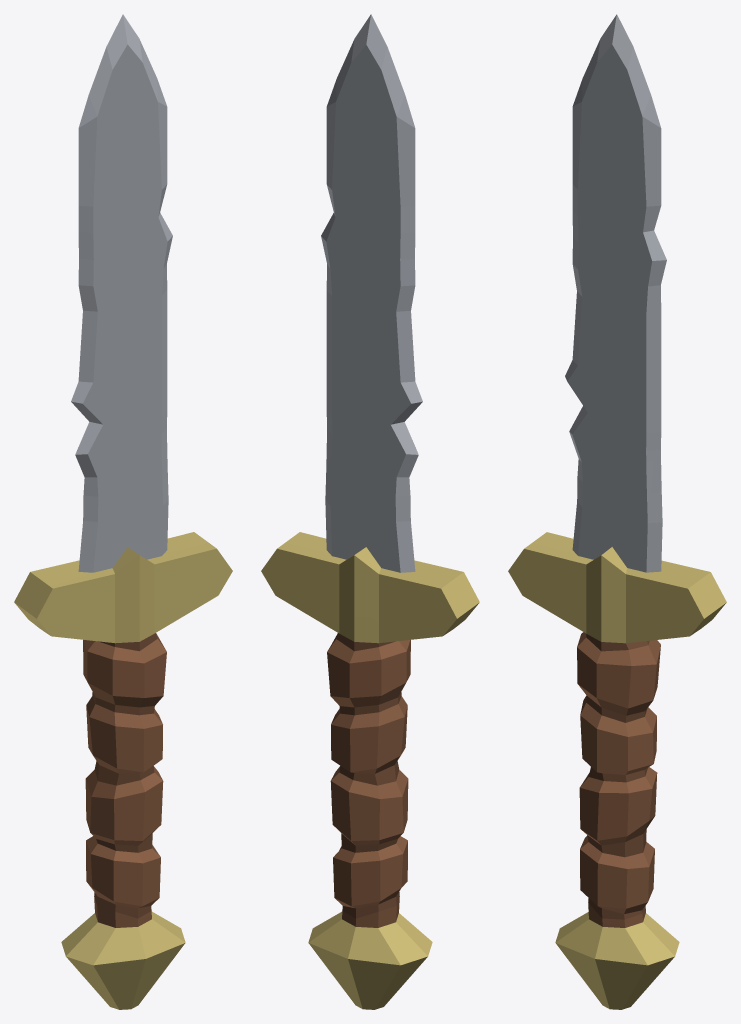
File: knife_0101.glb
3 views of the same model, side by side, from view 1: azimuth 30°, elevation 25°; view 2: azimuth 150°, elevation 25°; view 3: azimuth 330°, elevation 25° (orthographic).
Parts seen in each view (by area): view 1: Knife_0101; view 2: Knife_0101; view 3: Knife_0101.
Part boxes in pixels (<box>): Knife_0101: <box>14,14,232,1009</box>; Knife_0101: <box>261,14,479,1009</box>; Knife_0101: <box>508,14,726,1009</box>.
Bounding box in the file's own units: 0.644 × 3.11 × 0.2564.
